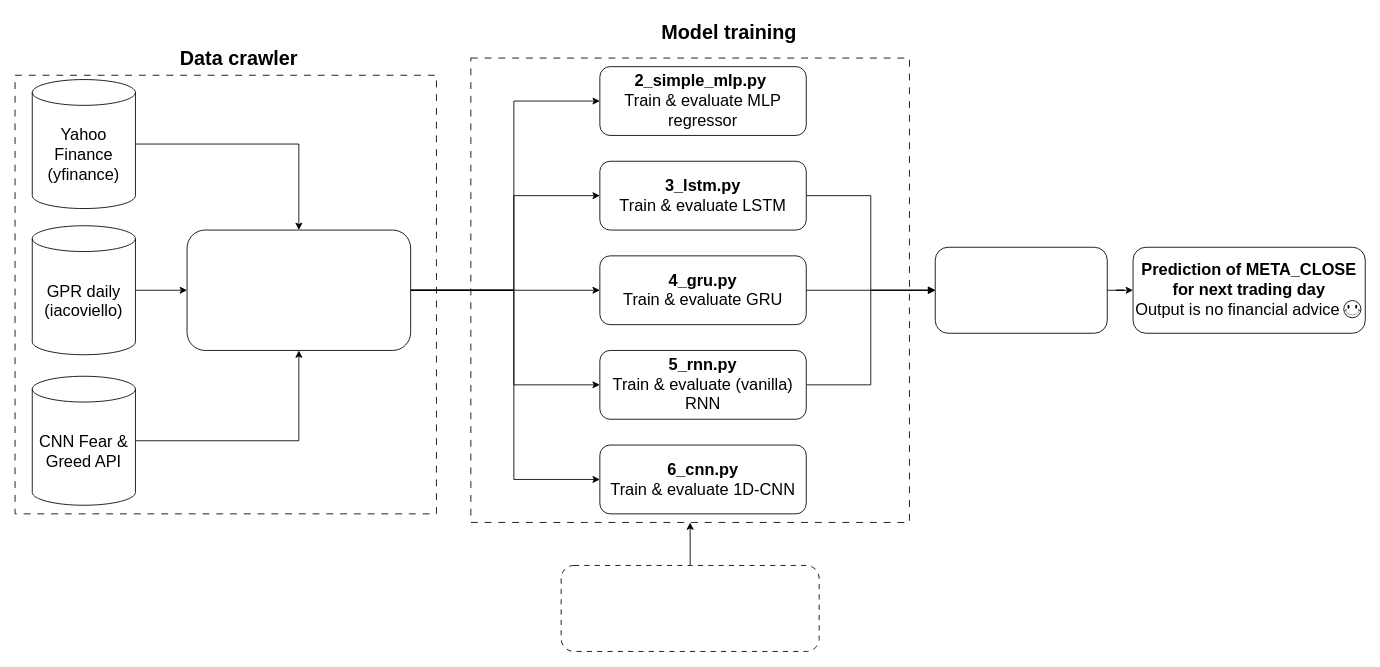
Image size: 1380x667. Some labels were removed from this diagram. Here are the shapes that lost their labels. From the top down, the centre of each, then its label:
the point at 298,289: 1_datacrawler.py Crawls data & saves unified dataset
the point at 1020,289: 7_ensemble.py Evaluate ensemble (LSTM + GRU + RNN)
the point at 689,608: 8_sentiment.py Crawl LLM-based sentiment via APIs → enrich features
